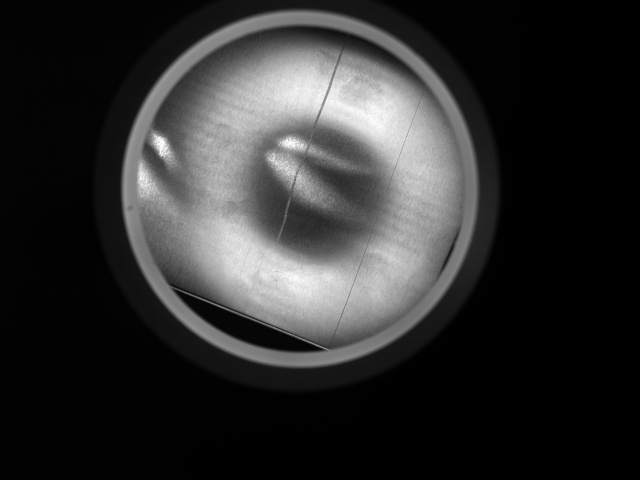ca_shang: (328, 88, 424, 347), (275, 45, 344, 246)
